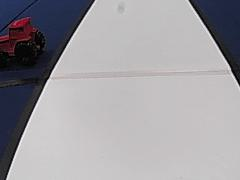Tracktor: (1, 14, 47, 64)
